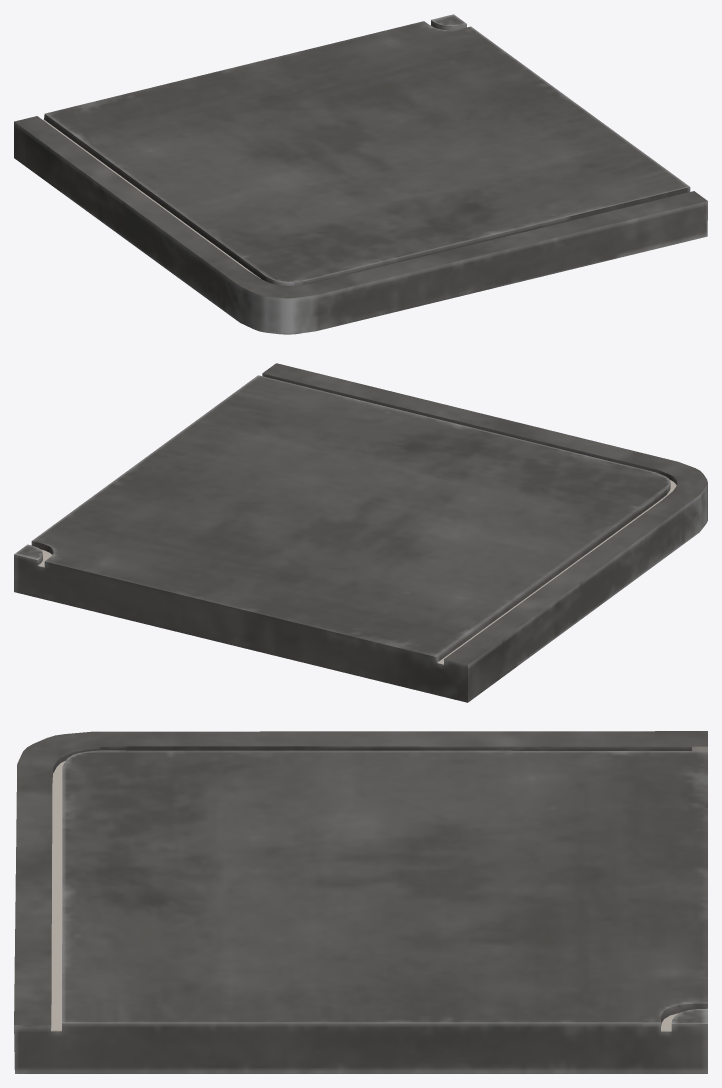
Rendered from FUT0510032.fbx.
The picture shows the model from 3 angles, top to bottom: view 1: azimuth 30°, elevation 25°; view 2: azimuth 150°, elevation 25°; view 3: azimuth 270°, elevation 25°; orthographic projection. The views are drawn at different scales.
Visible parts, largest first — view 1: smFUT0510032; view 2: smFUT0510032; view 3: smFUT0510032.
Boxes of the visible parts, box(x1,y1,x2,y2) form: smFUT0510032: box(14, 14, 707, 334); smFUT0510032: box(14, 363, 707, 702); smFUT0510032: box(14, 731, 707, 1073).
Size of the model in its own units: 168 by 13.49 by 168.
Materials: 1 (1 with a texture image).
